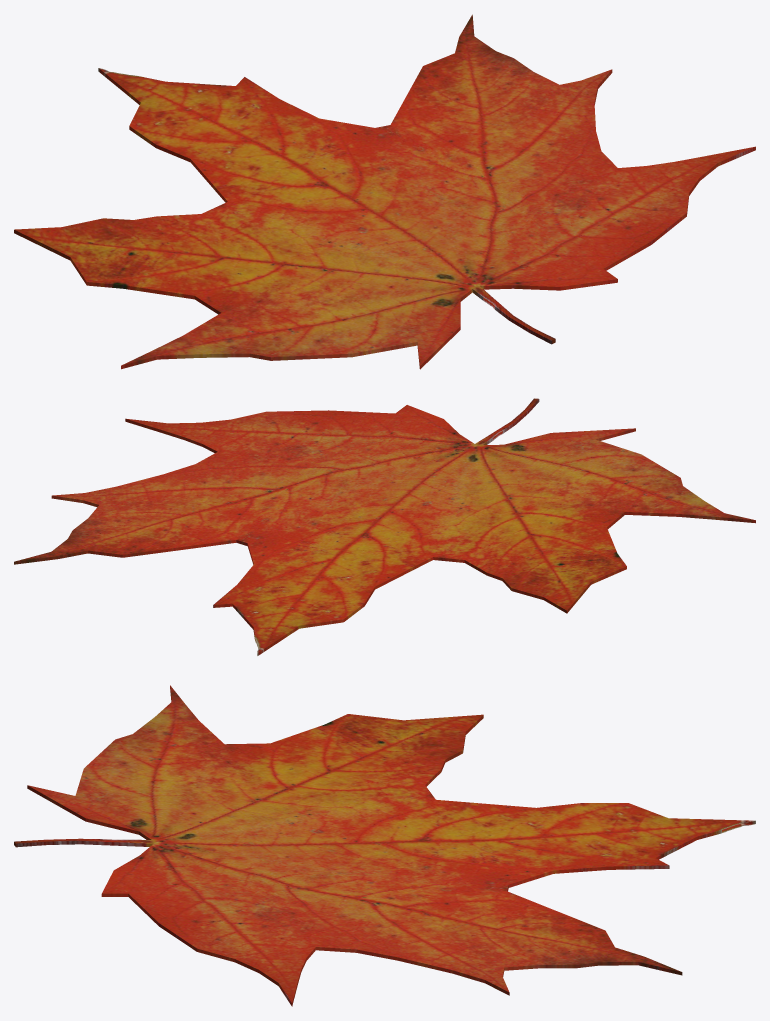
File: leaf_0_atlas.fbx
3 views of the same model, one above another, from view 1: azimuth 30°, elevation 25°; view 2: azimuth 150°, elevation 25°; view 3: azimuth 270°, elevation 25° (orthographic). The views are drawn at different scales.
Parts seen in each view (by area): view 1: leaf; view 2: leaf; view 3: leaf.
Boxes of the visible parts, x1=… form: leaf: x1=14, y1=14, x2=755, y2=369; leaf: x1=14, y1=398, x2=755, y2=655; leaf: x1=14, y1=685, x2=755, y2=1006.
Bounding box in the file's own units: 203 × 2.28 × 199.
